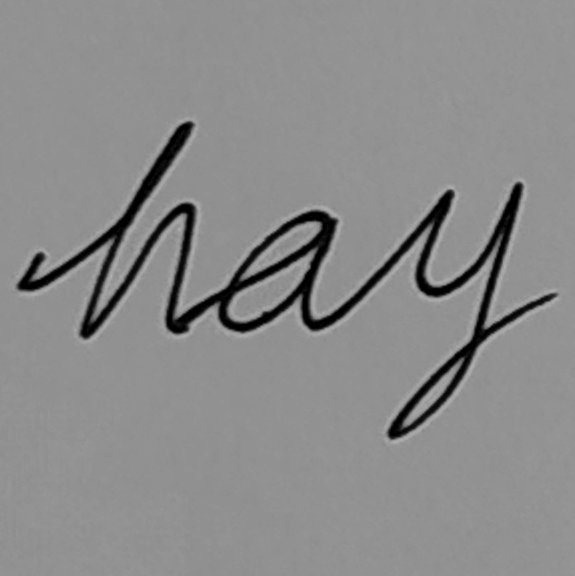a: (213, 204, 340, 339)
h: (75, 119, 201, 343)
y: (379, 177, 527, 444)
